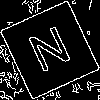N: (25, 25, 78, 82)
